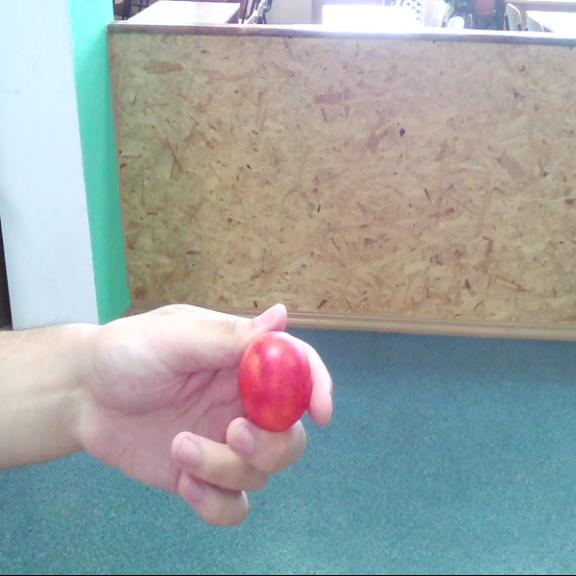ball: (240, 334, 310, 432)
